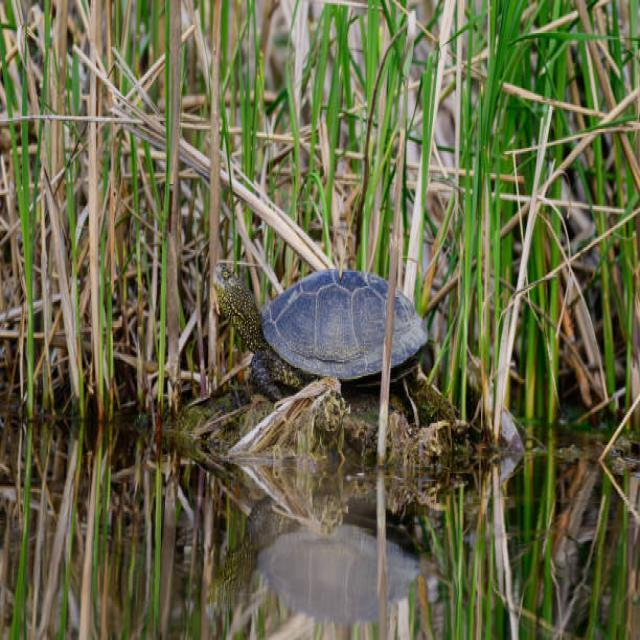tortoise: (209, 255, 437, 395)
